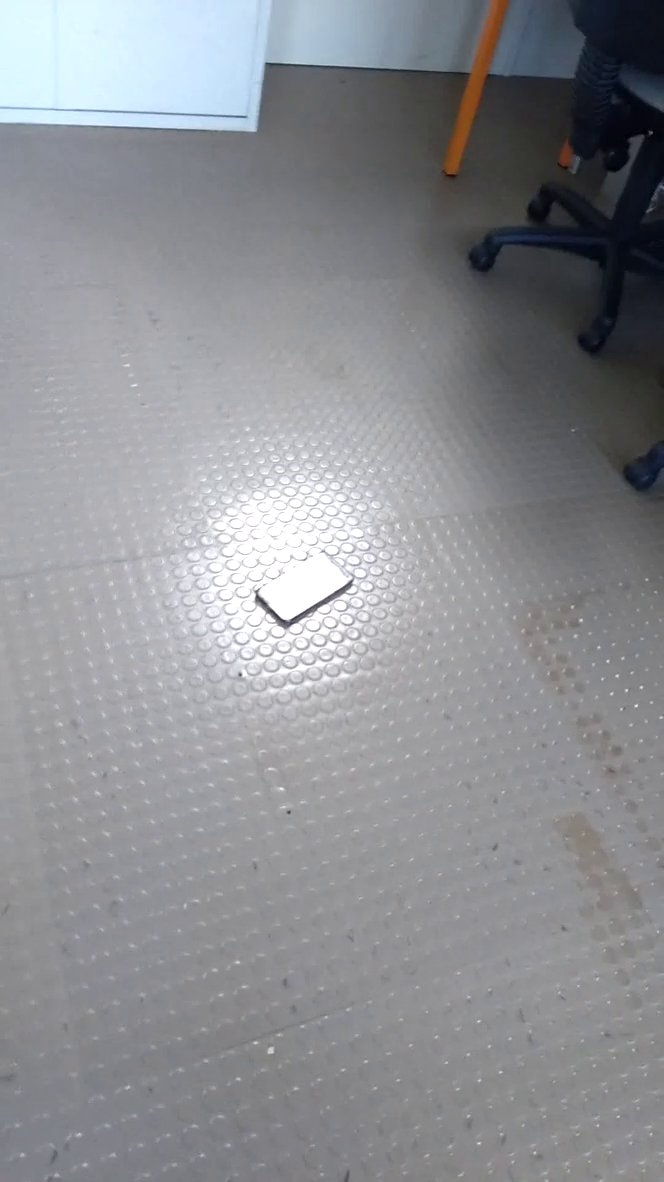phone: (248, 546, 364, 642)
